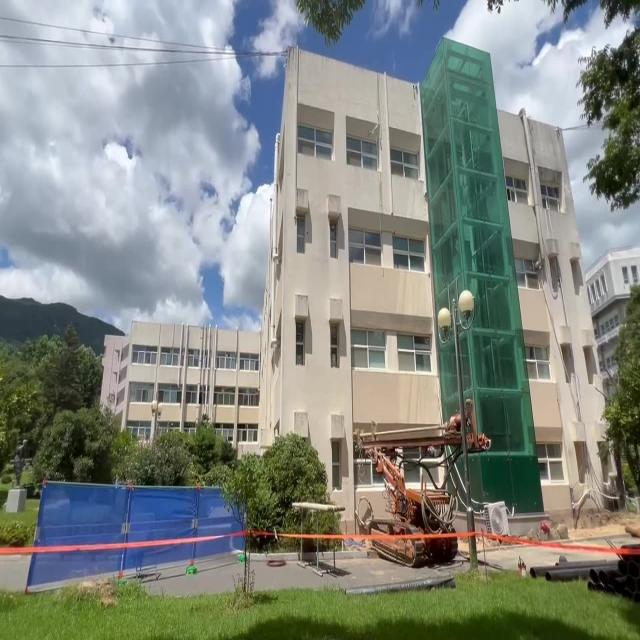building: (284, 66, 592, 434)
